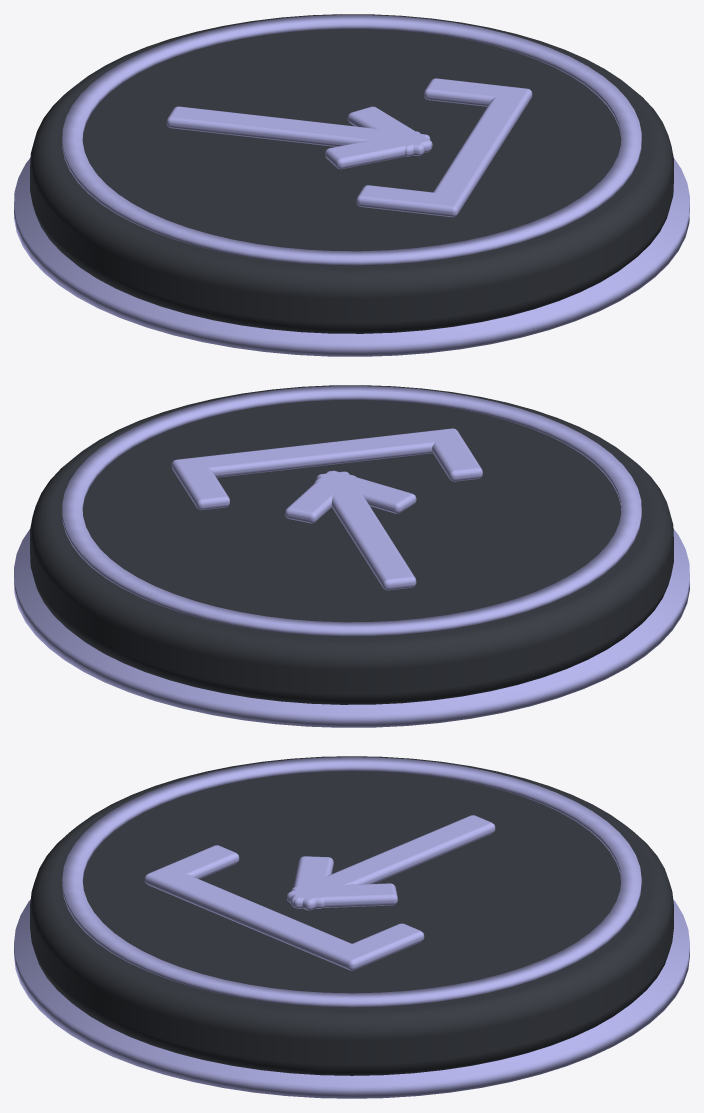
Rendered from input.glb.
3 renders of one model, top to bottom at view 1: azimuth 30°, elevation 25°; view 2: azimuth 150°, elevation 25°; view 3: azimuth 270°, elevation 25°, orthographic.
Visible parts, largest first — view 1: module, edge, rim, line.003, line, line.001, line.002, line.005, line.004; view 2: module, edge, rim, line, line.003, line.002, line.004, line.001, line.005; view 3: module, edge, rim, line, line.003, line.004, line.002, line.001, line.005.
Boxes of the visible parts, bbox=[...] form: module: bbox=[30, 14, 673, 333]; edge: bbox=[62, 15, 641, 265]; rim: bbox=[14, 158, 689, 356]; line.003: bbox=[166, 106, 430, 155]; line: bbox=[428, 86, 532, 217]; line.001: bbox=[356, 185, 464, 216]; line.002: bbox=[424, 78, 531, 107]; line.005: bbox=[325, 131, 431, 169]; line.004: bbox=[347, 106, 432, 156]; module: bbox=[30, 385, 673, 704]; edge: bbox=[62, 386, 641, 636]; rim: bbox=[14, 529, 689, 727]; line: bbox=[172, 428, 461, 477]; line.003: bbox=[316, 471, 416, 590]; line.002: bbox=[171, 459, 229, 510]; line.004: bbox=[285, 471, 355, 523]; line.001: bbox=[432, 429, 482, 481]; line.005: bbox=[314, 470, 416, 513]; module: bbox=[30, 756, 673, 1075]; edge: bbox=[62, 757, 641, 1007]; rim: bbox=[14, 899, 689, 1098]; line: bbox=[144, 867, 372, 970]; line.003: bbox=[287, 815, 495, 910]; line.004: bbox=[291, 883, 397, 908]; line.002: bbox=[332, 923, 424, 969]; line.001: bbox=[146, 845, 239, 891]; line.005: bbox=[290, 856, 333, 908].
Size of the model in its own units: 0.672 by 0.09 by 0.672.
